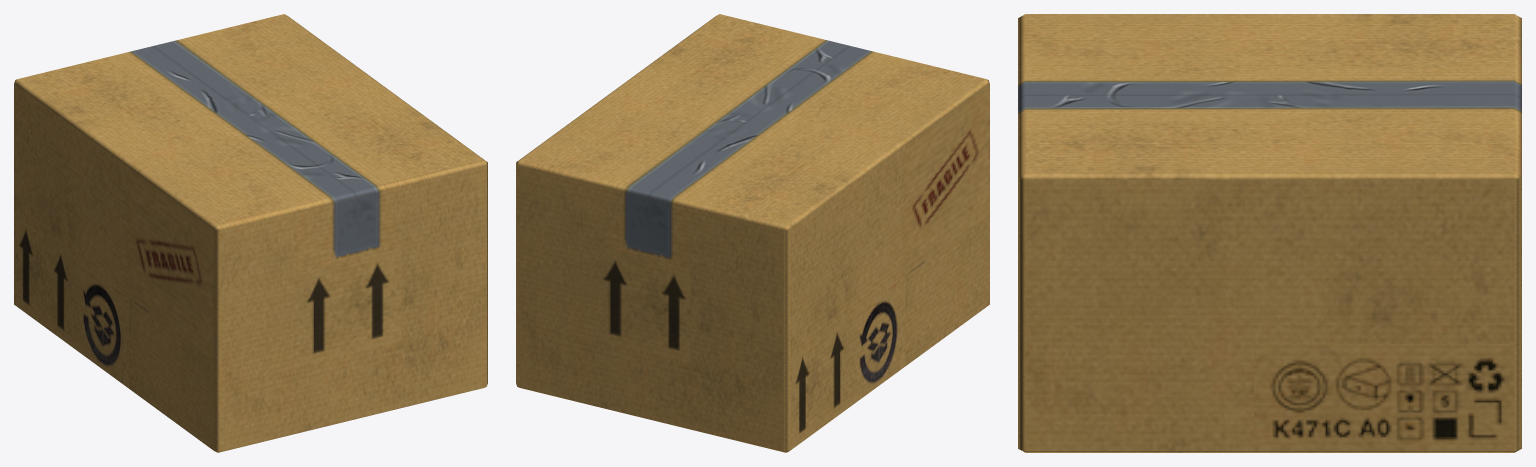
The model's file is cardboard_01.fbx.
3 views of the same model, side by side, from view 1: azimuth 30°, elevation 25°; view 2: azimuth 150°, elevation 25°; view 3: azimuth 270°, elevation 25° (orthographic). The views are drawn at different scales.
Visible parts, largest first — view 1: cardboard_01; view 2: cardboard_01; view 3: cardboard_01.
Boxes of the visible parts, x1,y1,x2,y2 form: cardboard_01: (14, 14, 487, 452); cardboard_01: (516, 14, 989, 452); cardboard_01: (1018, 14, 1521, 452).
Bounding box in the file's own units: 45.5 × 36.16 × 59.02.
